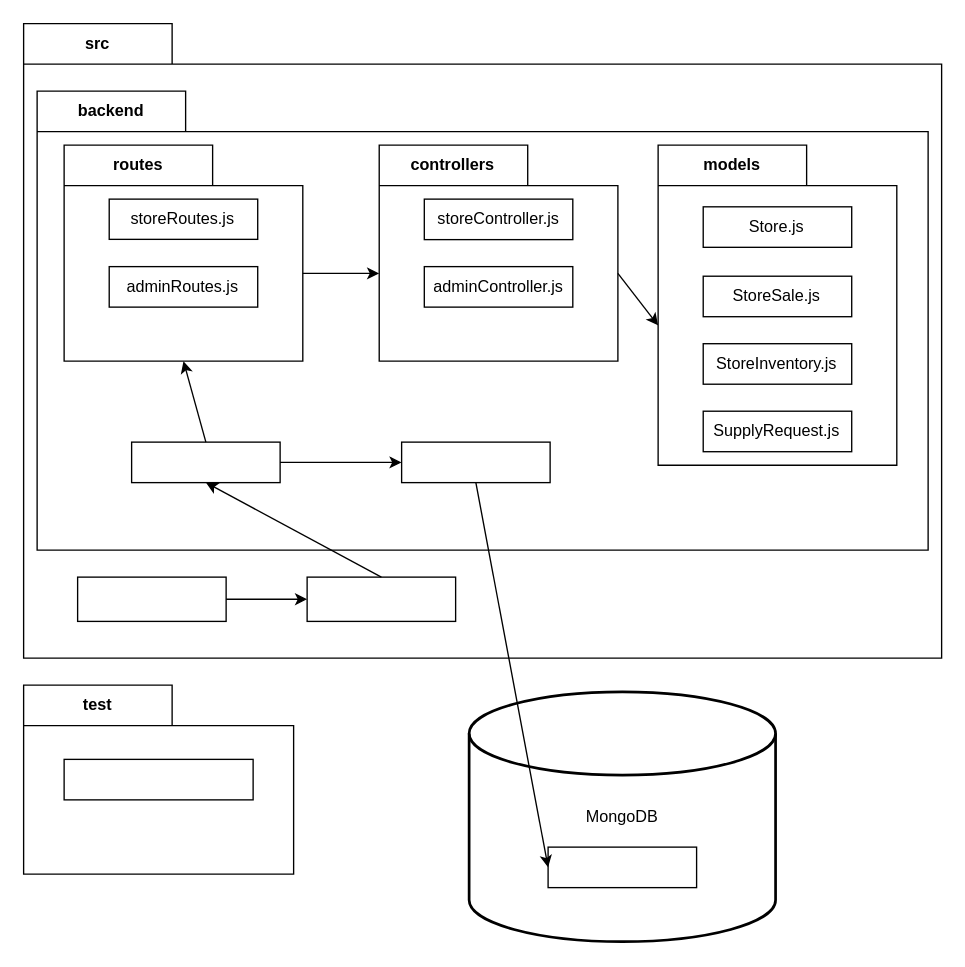
The diagram is 965 pixels wide and 967 high, and some of its shapes have lost their labels. Each missing label, with the centre of its shape:
app.js: pixel 205 462
initDb.js: pixel 475 462
labo2: pixel 622 867
main.py: pixel 151 598
store_functions.py: pixel 381 598
test_store_functions.py: pixel 158 779
